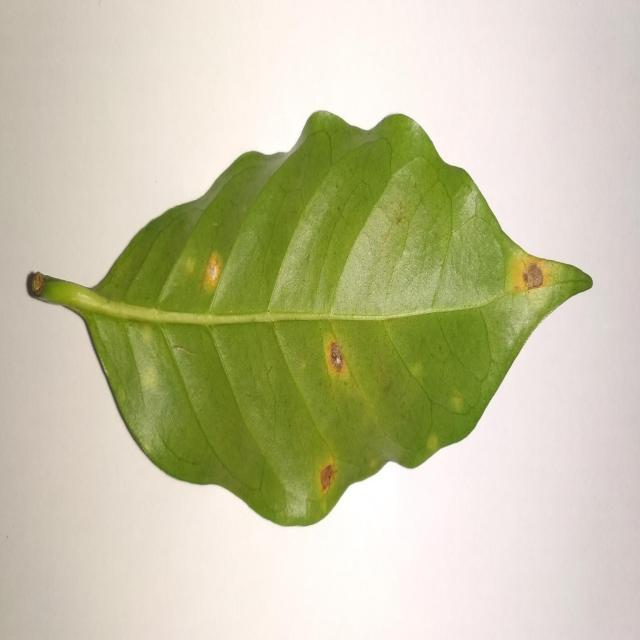Enfermedad-Roya: (24, 111, 594, 530)
